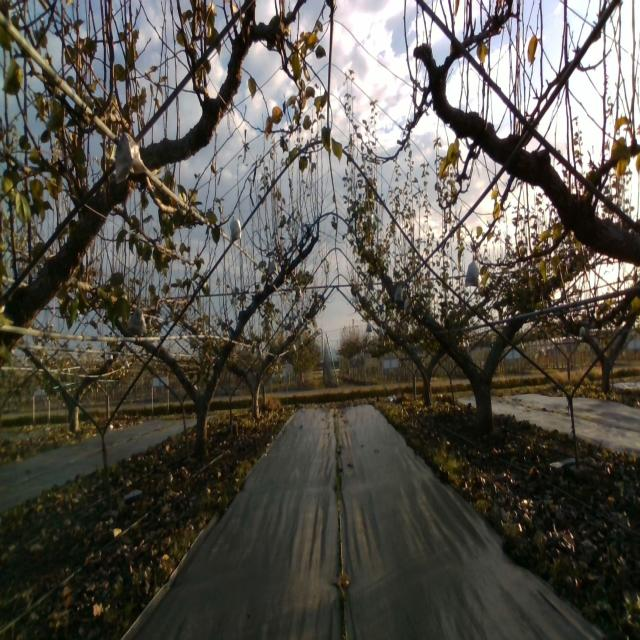pearbags: (115, 128, 147, 184), (464, 254, 479, 288), (229, 212, 242, 243), (267, 254, 279, 278), (394, 283, 404, 302)
